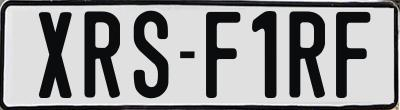1: (252, 8, 278, 95)
F: (206, 10, 245, 96), (336, 9, 371, 101)
R: (289, 9, 328, 97), (83, 8, 120, 95)
S: (133, 8, 170, 100)
X: (37, 9, 75, 98)
